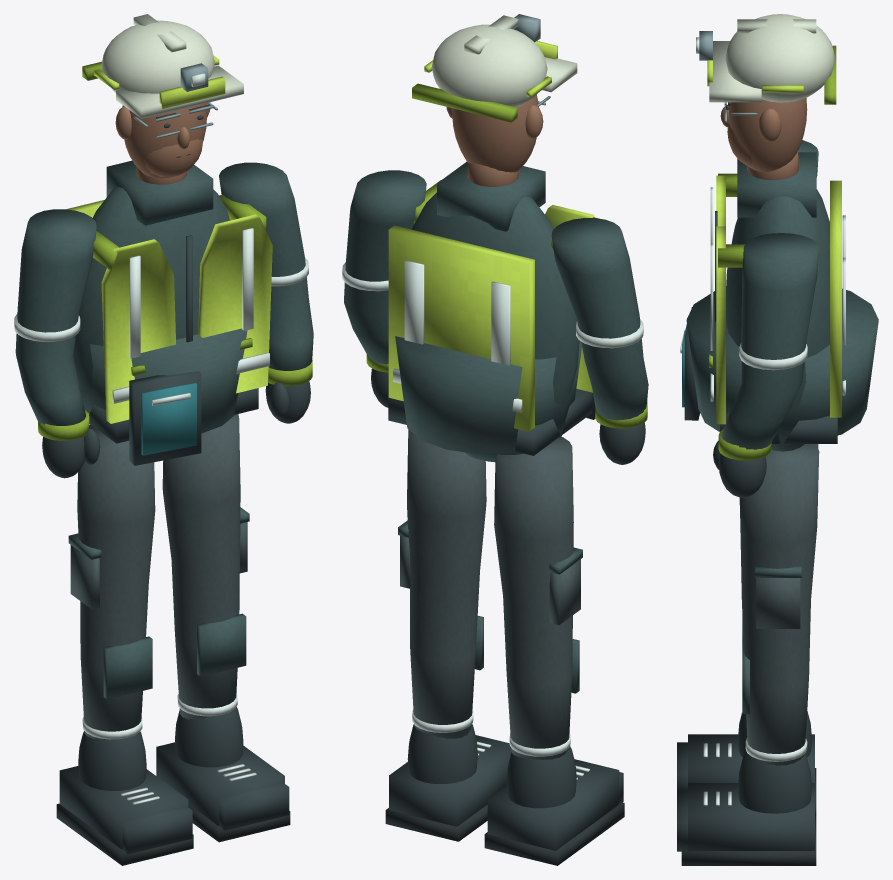
The model's file is IslandTechnician_Green.glb.
3 views of the same model, side by side, from view 1: azimuth 30°, elevation 25°; view 2: azimuth 150°, elevation 25°; view 3: azimuth 270°, elevation 25° (orthographic). The views are drawn at different scales.
Visible parts, largest first — view 1: Continuous trouser leg Right, Continuous trouser leg Left, Continuous jacket sleeve Left, Continuous jacket sleeve Right, Jacket core, Vest shaped front Left, Vest shaped front Right, Jacket lower taper, Helmet dome, Boot foot Left, Boot foot Right, Jacket collar (+28 smaller); view 2: Continuous trouser leg Left, Continuous trouser leg Right, Vest rear panel, Jacket lower taper, Continuous jacket sleeve Left, Jacket core, Continuous jacket sleeve Right, Helmet dome, Boot foot Left, Boot foot Right, Jacket collar, Head and jaw (+15 smaller); view 3: Continuous trouser leg Right, Continuous jacket sleeve Right, Jacket lower taper, Helmet dome, Jacket core, Boot foot Right, Head and jaw, Boot ankle Right, Jacket collar, Vest rear panel, Boot foot Left, Cargo pocket Right (+23 smaller).
Part boxes in pixels (x1,y1,x2,y2): Continuous trouser leg Right: [162, 414, 240, 719]; Continuous trouser leg Left: [77, 424, 155, 739]; Continuous jacket sleeve Left: [15, 209, 96, 425]; Continuous jacket sleeve Right: [219, 162, 313, 370]; Jacket core: [73, 187, 230, 390]; Vest shaped front Left: [101, 239, 175, 423]; Vest shaped front Right: [198, 214, 272, 393]; Jacket lower taper: [78, 328, 247, 433]; Helmet dome: [101, 20, 214, 93]; Boot foot Left: [59, 766, 188, 849]; Boot foot Right: [156, 742, 284, 825]; Jacket collar: [106, 160, 213, 225]; Continuous trouser leg Left: [494, 436, 573, 759]; Continuous trouser leg Right: [407, 429, 486, 738]; Vest rear panel: [388, 225, 534, 431]; Jacket lower taper: [395, 336, 581, 453]; Continuous jacket sleeve Left: [551, 218, 648, 420]; Jacket core: [411, 192, 579, 462]; Continuous jacket sleeve Right: [344, 170, 426, 364]; Helmet dome: [431, 24, 547, 107]; Boot foot Left: [487, 759, 619, 850]; Boot foot Right: [389, 735, 511, 826]; Jacket collar: [437, 161, 545, 231]; Head and jaw: [452, 95, 538, 172]; Continuous trouser leg Right: [739, 444, 819, 765]; Continuous jacket sleeve Right: [721, 233, 818, 449]; Jacket lower taper: [686, 288, 878, 444]; Helmet dome: [725, 14, 834, 102]; Jacket core: [726, 189, 829, 451]; Boot foot Right: [688, 783, 814, 850]; Head and jaw: [729, 98, 807, 171]; Boot ankle Right: [738, 750, 811, 813]; Jacket collar: [737, 152, 816, 217]; Vest rear panel: [830, 180, 841, 417]; Boot foot Left: [688, 734, 814, 782]; Cargo pocket Right: [756, 578, 800, 628].
Bounding box in the file's own units: 0.704 × 1.84 × 0.4195.
13 materials, 13 textured.
